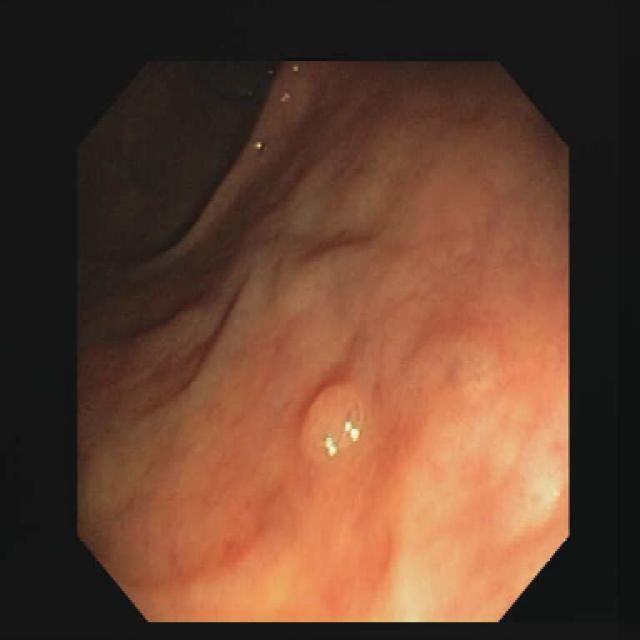tumor: (300, 384, 367, 458)
